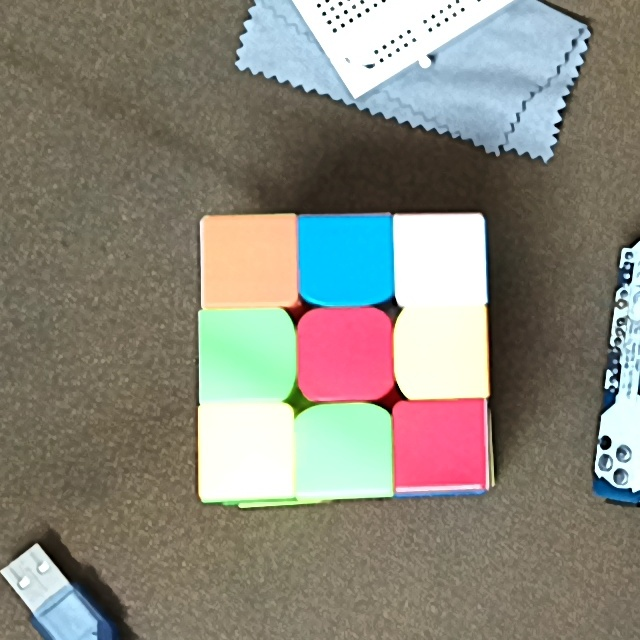tile: (208, 218, 289, 299), (397, 407, 484, 482), (204, 315, 286, 393), (306, 220, 388, 297), (400, 222, 480, 297), (205, 412, 285, 486), (307, 316, 385, 391), (302, 417, 385, 487), (406, 317, 481, 388)
